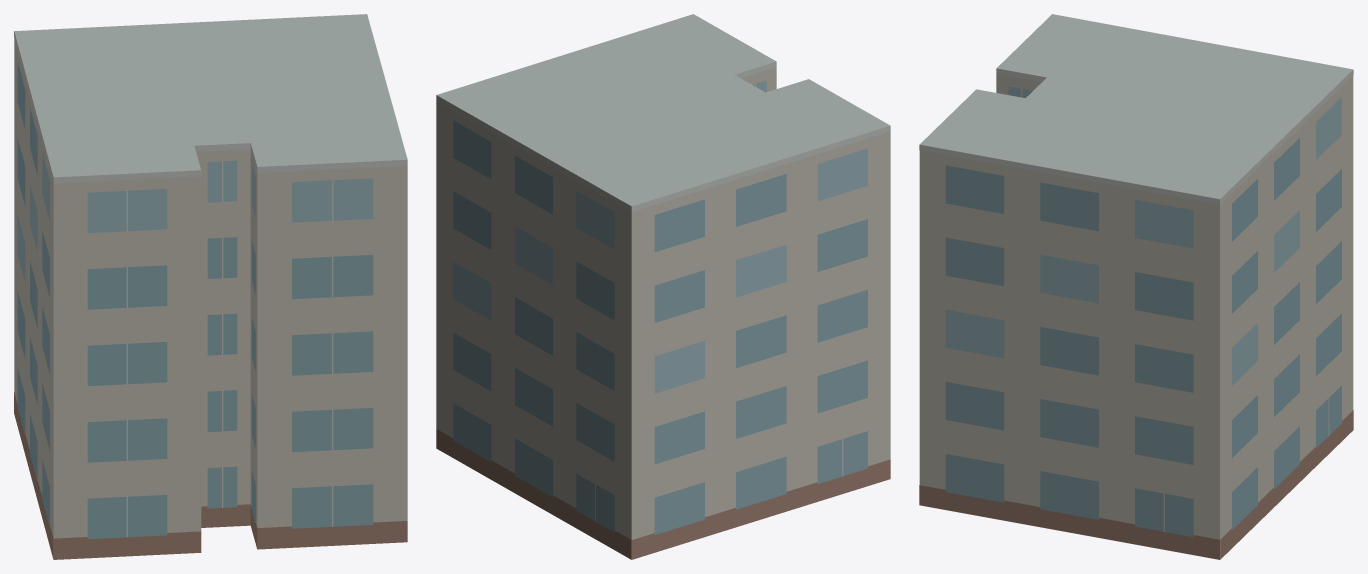
File: survey-upis-32748033.glb
The picture shows the model from 3 angles, left to right: view 1: azimuth 30°, elevation 25°; view 2: azimuth 150°, elevation 25°; view 3: azimuth 270°, elevation 25°; orthographic projection. The views are drawn at different scales.
Visible parts, largest first — view 1: survey-upis-32748033.tmp; view 2: survey-upis-32748033.tmp; view 3: survey-upis-32748033.tmp.
Boxes of the visible parts, bbox=[...] form: survey-upis-32748033.tmp: bbox=[14, 14, 407, 559]; survey-upis-32748033.tmp: bbox=[436, 14, 890, 559]; survey-upis-32748033.tmp: bbox=[919, 14, 1353, 559].
Bounding box in the file's own units: 16.81 × 15.25 × 16.64.
